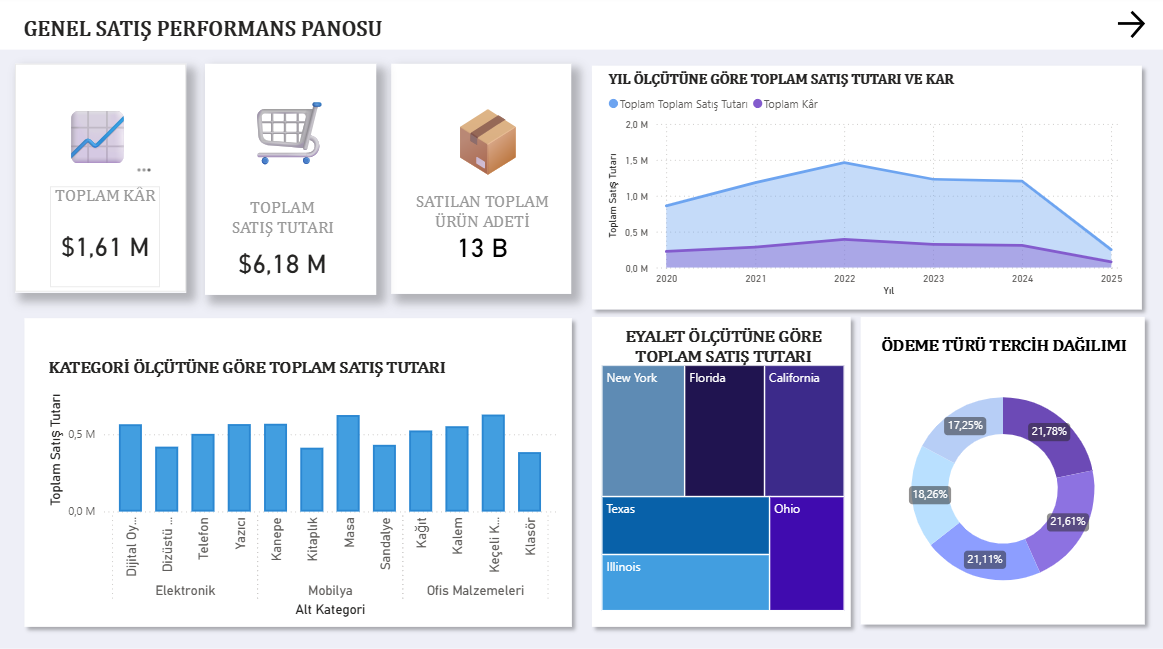

The dashboard page shown, as its layout file describes it:
{"tool":"powerbi","page":{"name":"1. sayfa","canvas":[1280,720],"ordinal":0},"visuals":[{"type":"shape","box":[0,2.7,1280.3,714.9],"z":0},{"type":"group","id":"g1","title":"Grup 2","box":[17.8,345.8,618.9,356.8],"z":4000},{"type":"shape","box":[17.8,345.8,618.9,356.8],"z":4500,"group":"g1"},{"type":"columnChart","title":"KATEGORİ ÖLÇÜTÜNE GÖRE TOPLAM SATIŞ TUTARI","fields":{"Category":["Satislar.Kategori","Satislar.Alt Kategori"],"Y":["Sum(Satislar.Toplam Satış Tutarı)"]},"box":[47.9,398.7,567.7,288.7],"z":4750,"group":"g1"},{"type":"group","id":"g2","title":"Grup 3","box":[640.8,68.6,621.6,285.4],"z":5000},{"type":"shape","box":[936.3,344.4,329.8,355.4],"z":5500,"group":"g3"},{"type":"group","id":"g3","title":"Grup 1","box":[922.1,344.4,358.1,355.4],"z":6000},{"type":"shape","box":[640.8,68.6,621.6,285.4],"z":6750,"group":"g2"},{"type":"group","id":"g4","title":"Grup 4","box":[640.8,344.4,301.9,358.1],"z":7000},{"type":"lineChart","title":"YIL ÖLÇÜTÜNE GÖRE TOPLAM SATIŞ TUTARI VE KAR","fields":{"Category":["Satislar.Sipariş Tarihi.Varyasyon.Tarih Hiyerarşisi.Yıl","Satislar.Sipariş Tarihi.Varyasyon.Tarih Hiyerarşisi.Çeyrek","Satislar.Sipariş Tarihi.Varyasyon.Tarih Hiyerarşisi.Ay","Satislar.Sipariş Tarihi.Varyasyon.Tarih Hiyerarşisi.Gün"],"Y":["Sum(Satislar.Toplam Satış Tutarı)","Sum(Satislar.Kâr)"]},"box":[663.3,83.8,575.2,252.5],"z":7500,"group":"g2"},{"type":"donutChart","title":"ÖDEME TÜRÜ TERCİH DAĞILIMI","fields":{"Y":["CountNonNull(Satislar.Ödeme Türü)"],"Category":["Satislar.Ödeme Türü"]},"box":[922.1,375.1,358.1,317],"z":7500,"group":"g3"},{"type":"group","id":"g5","title":"Grup 6","box":[429.5,75.5,197.6,252.5],"z":8000},{"type":"shape","box":[16.7,75.7,188,251.1],"z":8000,"group":"g9"},{"type":"group","id":"g6","title":"Grup 8","box":[16.7,75.7,188,251.1],"z":9000},{"type":"shape","box":[640.8,344.4,301.9,358.1],"z":9000,"group":"g4"},{"type":"treemap","title":"EYALET ÖLÇÜTÜNE GÖRE TOPLAM SATIŞ TUTARI","fields":{"Group":["Satislar.Eyalet"],"Values":["Sum(Satislar.Toplam Satış Tutarı)"]},"box":[656.1,365.1,276,316],"z":9500,"group":"g4"},{"type":"group","id":"g7","title":"Grup 10","box":[224.6,74.8,188,253.9],"z":10000},{"type":"shape","box":[224.6,74.8,188,253.9],"z":10000,"group":"g8"},{"type":"card","title":"TOPLAM SATIŞ TUTARI","fields":{"Values":["Satislar.Toplam Satış"]},"box":[246.2,223.6,126.2,103.1],"z":11000,"group":"g8"},{"type":"group","id":"g8","title":"Grup 9","box":[224.6,74.8,188,253.9],"z":11001,"group":"g7"},{"type":"textbox","box":[261.6,92.5,108.4,109.8],"z":11502,"group":"g7"},{"type":"textbox","box":[0,0,1280.3,60.4],"z":12000},{"type":"card","title":"TOPLAM KÂR","fields":{"Values":["Satislar.Toplam Kar"]},"box":[54.6,209.8,121.3,111.3],"z":12000,"group":"g9"},{"type":"group","id":"g9","title":"Grup 7","box":[16.7,75.7,188,251.1],"z":12001,"group":"g6"},{"type":"shape","box":[429.5,75.5,197.6,252.5],"z":12003,"group":"g10"},{"type":"actionButton","box":[1221.3,12.3,59,39.8],"z":12500},{"type":"textbox","box":[62.2,108,82.3,90.3],"z":12501,"group":"g6"},{"type":"card","title":"SATILAN TOPLAM ÜRÜN ADETİ","fields":{"Values":["Satislar.Toplam Adet"]},"box":[452,216.6,155.9,81.1],"z":12503,"group":"g10"},{"type":"group","id":"g10","title":"Grup 5","box":[429.5,75.5,197.6,252.5],"z":12504,"group":"g5"},{"type":"textbox","box":[0,20.6,444.6,48],"z":13000},{"type":"textbox","box":[482.2,104.8,124.9,112.2],"z":13004,"group":"g5"}]}

Visuals, with their boxes in screenshot pixels (x1, y1, x2, y2), scaled from the page's 1280x720 canvas onto the 1163x649 screenshot:
shape: x1=0 y1=2 x2=1162 y2=647
"Grup 2" group: x1=16 y1=312 x2=579 y2=633
shape: x1=16 y1=312 x2=579 y2=633
"KATEGORİ ÖLÇÜTÜNE GÖRE TOPLAM SATIŞ TUTARI" columnChart: x1=44 y1=359 x2=559 y2=620
"Grup 3" group: x1=582 y1=62 x2=1147 y2=319
shape: x1=851 y1=310 x2=1150 y2=631
"Grup 1" group: x1=838 y1=310 x2=1162 y2=631
shape: x1=582 y1=62 x2=1147 y2=319
"Grup 4" group: x1=582 y1=310 x2=857 y2=633
"YIL ÖLÇÜTÜNE GÖRE TOPLAM SATIŞ TUTARI VE KAR" lineChart: x1=603 y1=76 x2=1125 y2=303
"ÖDEME TÜRÜ TERCİH DAĞILIMI" donutChart: x1=838 y1=338 x2=1162 y2=624
"Grup 6" group: x1=390 y1=68 x2=570 y2=296
shape: x1=15 y1=68 x2=186 y2=295
"Grup 8" group: x1=15 y1=68 x2=186 y2=295
shape: x1=582 y1=310 x2=857 y2=633
"EYALET ÖLÇÜTÜNE GÖRE TOPLAM SATIŞ TUTARI" treemap: x1=596 y1=329 x2=847 y2=614
"Grup 10" group: x1=204 y1=67 x2=375 y2=296
shape: x1=204 y1=67 x2=375 y2=296
"TOPLAM SATIŞ TUTARI" card: x1=224 y1=202 x2=338 y2=294
"Grup 9" group: x1=204 y1=67 x2=375 y2=296
textbox: x1=238 y1=83 x2=336 y2=182
textbox: x1=0 y1=0 x2=1162 y2=54
"TOPLAM KÂR" card: x1=50 y1=189 x2=160 y2=289
"Grup 7" group: x1=15 y1=68 x2=186 y2=295
shape: x1=390 y1=68 x2=570 y2=296
actionButton: x1=1110 y1=11 x2=1162 y2=47
textbox: x1=57 y1=97 x2=131 y2=179
"SATILAN TOPLAM ÜRÜN ADETİ" card: x1=411 y1=195 x2=552 y2=268
"Grup 5" group: x1=390 y1=68 x2=570 y2=296
textbox: x1=0 y1=19 x2=404 y2=62
textbox: x1=438 y1=94 x2=552 y2=196
